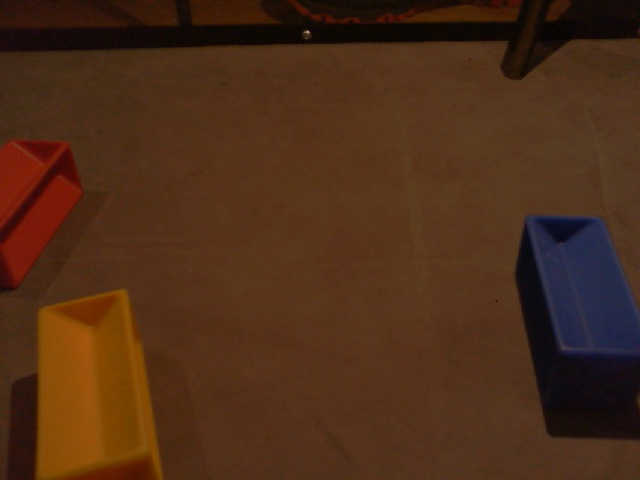BlueSample: (515, 212, 640, 419)
RedSample: (1, 134, 86, 294)
YellowSample: (31, 285, 165, 480)
